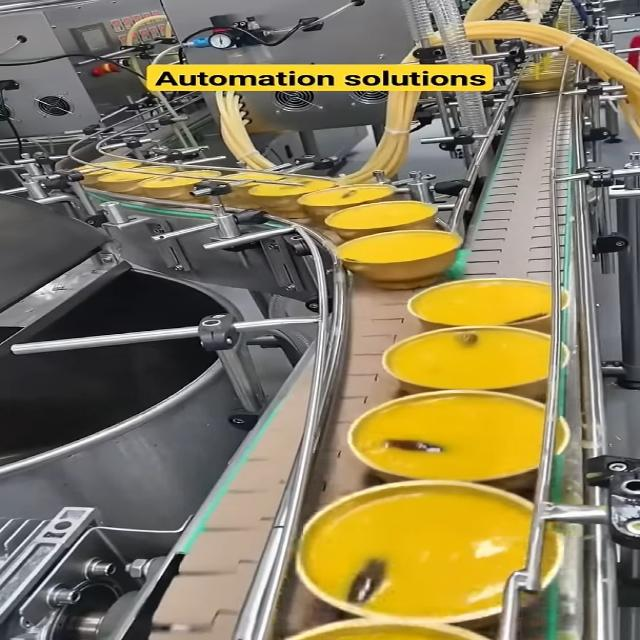cup: (260, 482, 609, 630), (320, 390, 602, 486), (347, 325, 605, 399), (406, 274, 576, 335), (333, 232, 478, 285), (325, 199, 444, 239), (239, 173, 348, 215), (300, 181, 402, 218), (197, 169, 292, 208), (137, 167, 228, 205), (92, 162, 176, 200), (66, 153, 139, 187)
